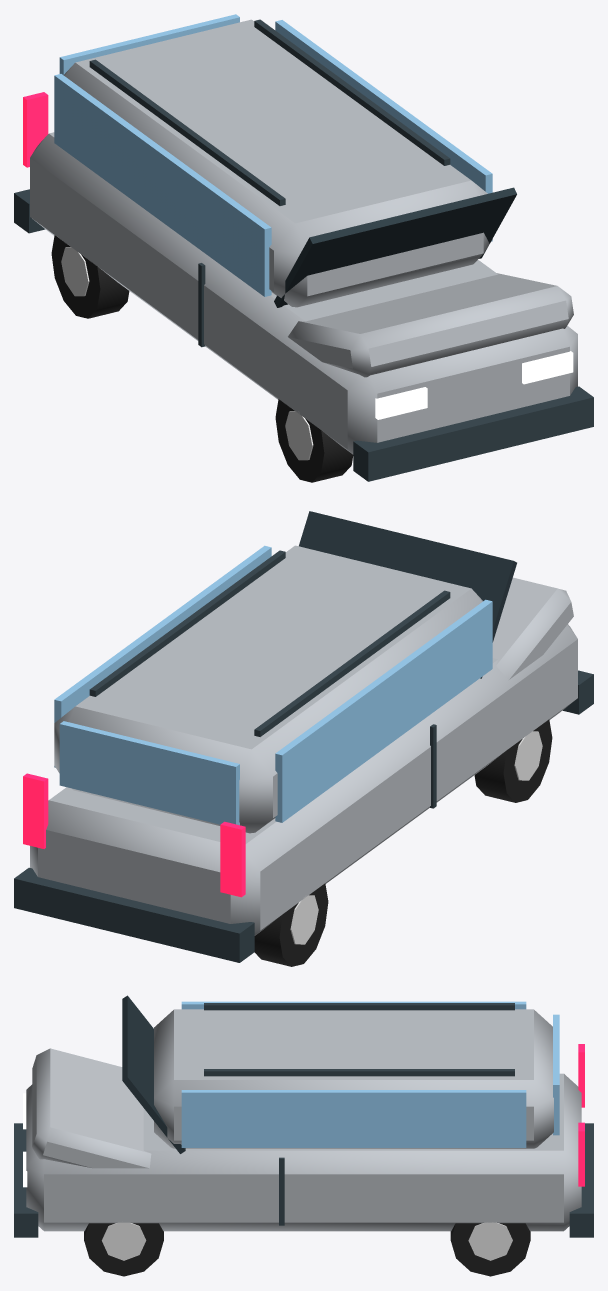
Rendered from town_minivan.glb.
3 renders of one model, top to bottom at view 1: azimuth 30°, elevation 25°; view 2: azimuth 150°, elevation 25°; view 3: azimuth 270°, elevation 25°, orthographic. The views are drawn at different scales.
Visible parts, largest first — view 1: TownMinivan_body, Wheel_FR, Wheel_RR; view 2: TownMinivan_body, Wheel_FR, Wheel_RR; view 3: TownMinivan_body, Wheel_RL, Wheel_FL.
Boxes of the visible parts, x1,y1,x2,y2 form: TownMinivan_body: (14,14,593,481); Wheel_FR: (275,399,353,482); Wheel_RR: (51,235,129,318); TownMinivan_body: (14,511,593,962); Wheel_FR: (474,719,552,802); Wheel_RR: (254,883,328,966); TownMinivan_body: (14,995,593,1237); Wheel_RL: (450,1222,530,1276); Wheel_FL: (84,1222,163,1276).
Size of the model in its own units: 2 by 1.93 by 5.22.
